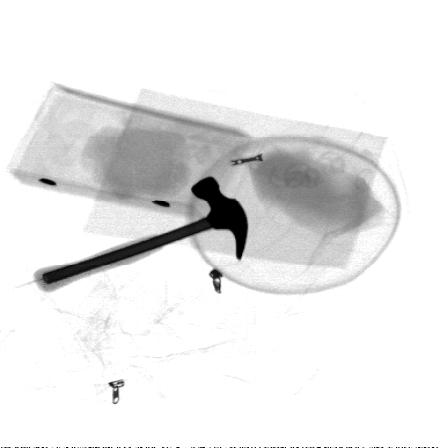Hammer: (32, 175, 249, 294)
